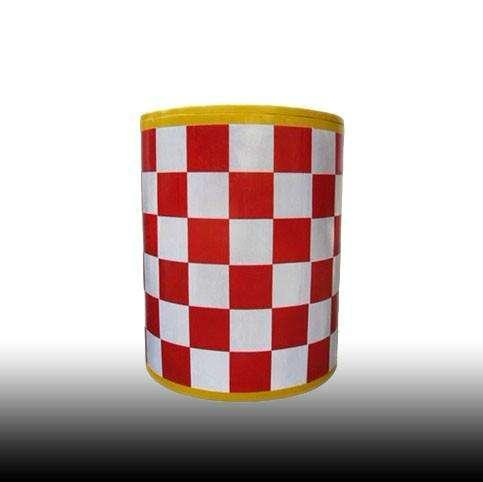sign: (124, 91, 355, 403)
